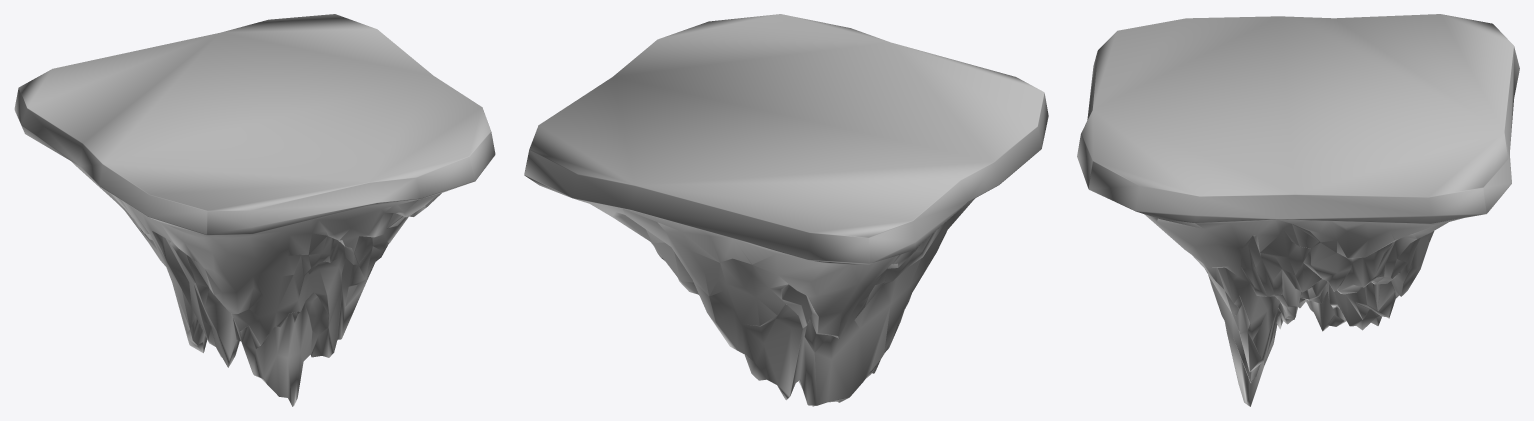
Rendered from Plataforma Square.fbx.
3 renders of one model, left to right at view 1: azimuth 30°, elevation 25°; view 2: azimuth 150°, elevation 25°; view 3: azimuth 270°, elevation 25°, orthographic. The views are drawn at different scales.
Visible parts, largest first — view 1: Plataforma Square_Baked; view 2: Plataforma Square_Baked; view 3: Plataforma Square_Baked.
Boxes of the visible parts, box(x1,y1,x2,y2) form: Plataforma Square_Baked: box(14, 14, 495, 406); Plataforma Square_Baked: box(524, 14, 1048, 406); Plataforma Square_Baked: box(1077, 14, 1519, 406).
Size of the model in its own units: 327 by 246 by 330.
Materials: 1 (1 with a texture image).
